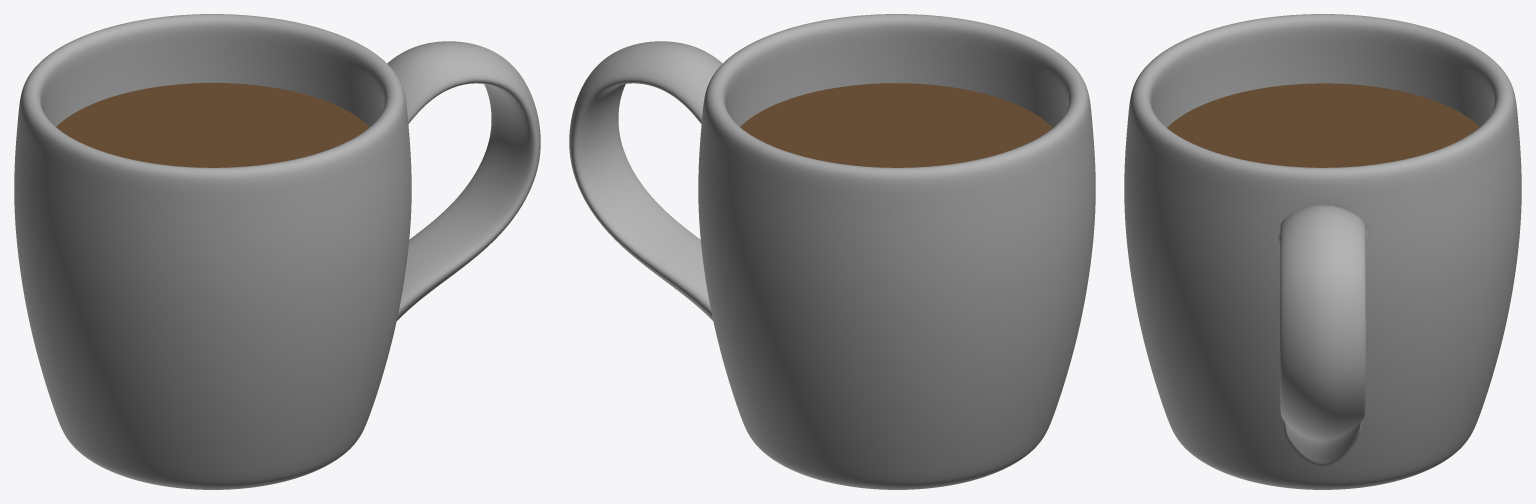
The model's file is tassecafe.fbx.
The picture shows the model from 3 angles, left to right: view 1: azimuth 30°, elevation 25°; view 2: azimuth 150°, elevation 25°; view 3: azimuth 270°, elevation 25°; orthographic projection.
Parts seen in each view (by area): view 1: node_id30, root; view 2: node_id30, root; view 3: node_id30, root.
Part boxes in pixels (<box>): node_id30: <box>14,14,540,489</box>; root: <box>56,83,369,167</box>; node_id30: <box>569,14,1095,489</box>; root: <box>740,83,1052,167</box>; node_id30: <box>1124,14,1521,489</box>; root: <box>1167,83,1479,167</box>.
Bounding box in the file's own units: 0.512 × 0.341 × 0.3577.
2 materials, 2 textured.
